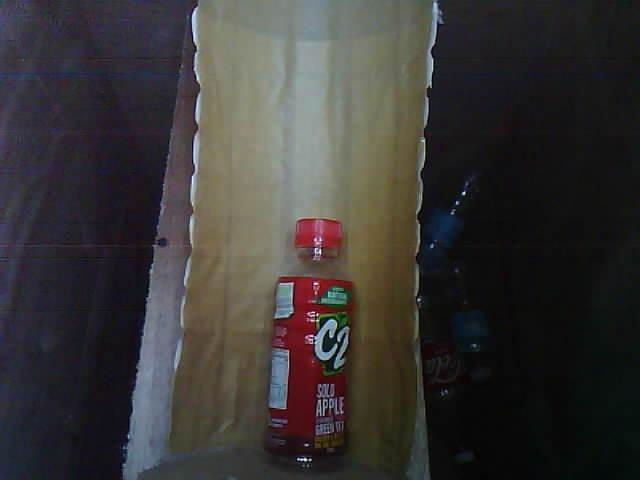small_bottle: (246, 202, 371, 480)
